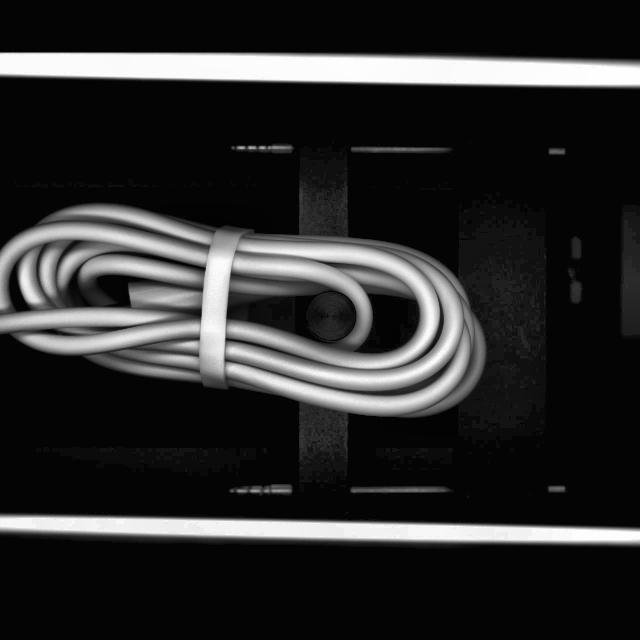Cable: (0, 194, 492, 428)
